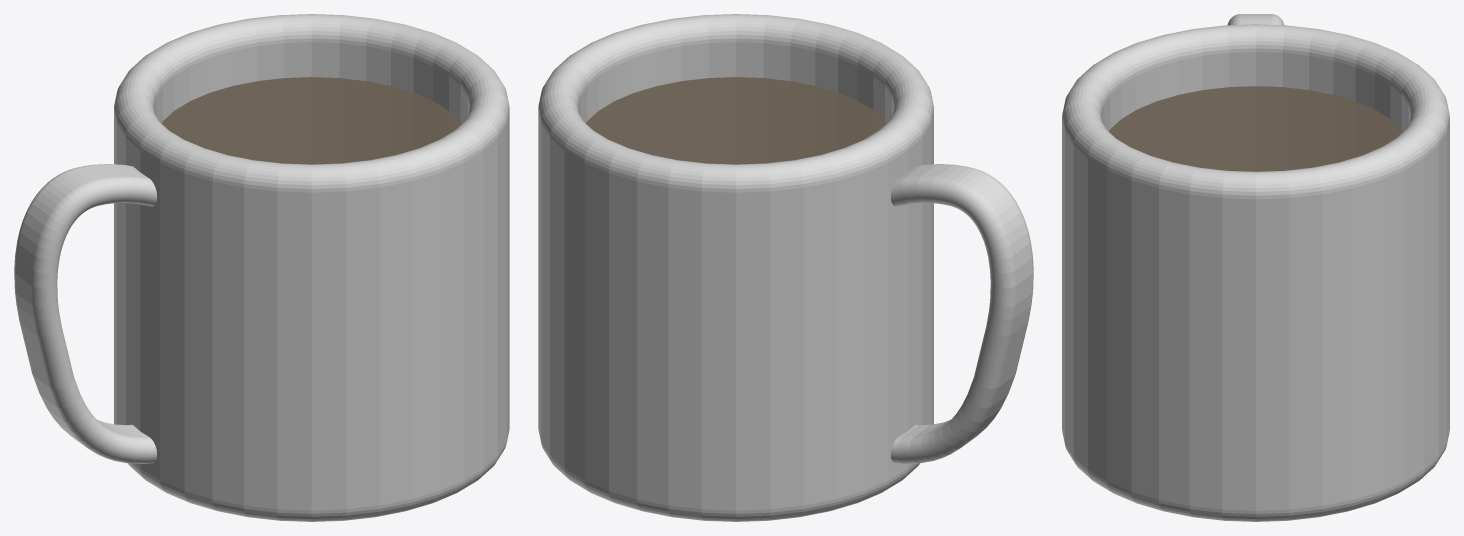
Rendered from cup.glb.
The picture shows the model from 3 angles, left to right: view 1: azimuth 30°, elevation 25°; view 2: azimuth 150°, elevation 25°; view 3: azimuth 270°, elevation 25°; orthographic projection. The views are drawn at different scales.
Parts seen in each view (by area): view 1: node-0; view 2: node-0; view 3: node-0.
Part boxes in pixels (x1=…): node-0: x1=14, y1=14, x2=509, y2=521; node-0: x1=538, y1=14, x2=1033, y2=521; node-0: x1=1062, y1=14, x2=1449, y2=521.
Bounding box in the file's own units: 1.46 × 1.08 × 1.09.
